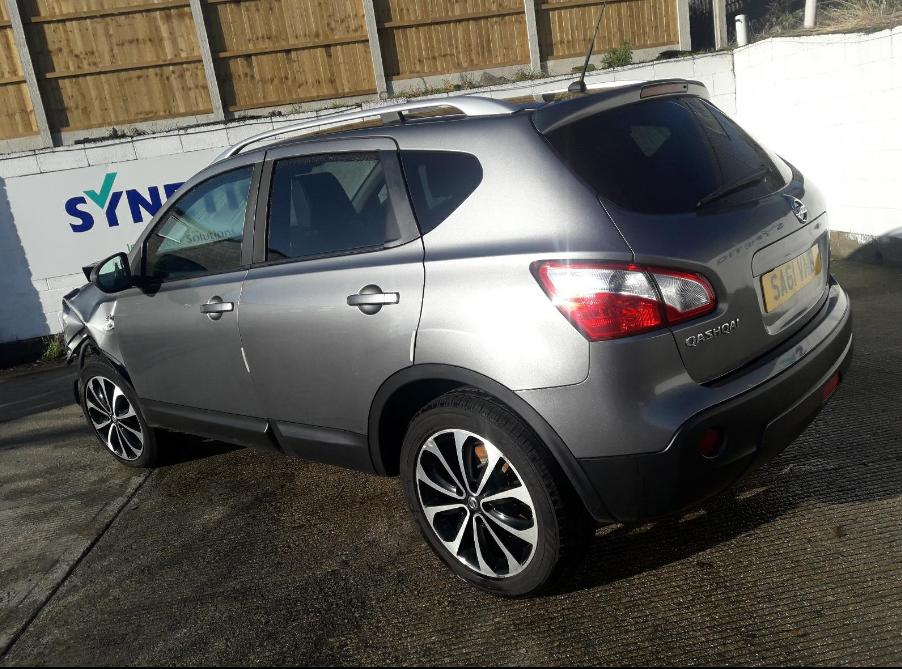Back-bumper: (368, 275, 852, 521)
Back-door: (238, 138, 424, 436)
Back-wheel: (400, 386, 589, 598)
Back-window: (269, 152, 401, 259), (401, 149, 481, 235)
Back-windshield: (547, 96, 793, 213)
Fender: (62, 282, 126, 368)
Front-bumper: (78, 339, 122, 377)
Front-door: (115, 151, 267, 420)
Front-wheel: (79, 353, 159, 467)
Front-window: (145, 166, 253, 279)
Hood: (82, 258, 105, 283)
License-plate: (761, 244, 822, 312)
Mirror: (90, 252, 163, 297)
Quarter-panel: (414, 211, 633, 390)
Rocker-panel: (140, 399, 374, 476)
Roof: (248, 80, 660, 150)
Tail-light: (531, 260, 718, 343)
Trunk: (532, 78, 830, 383)
